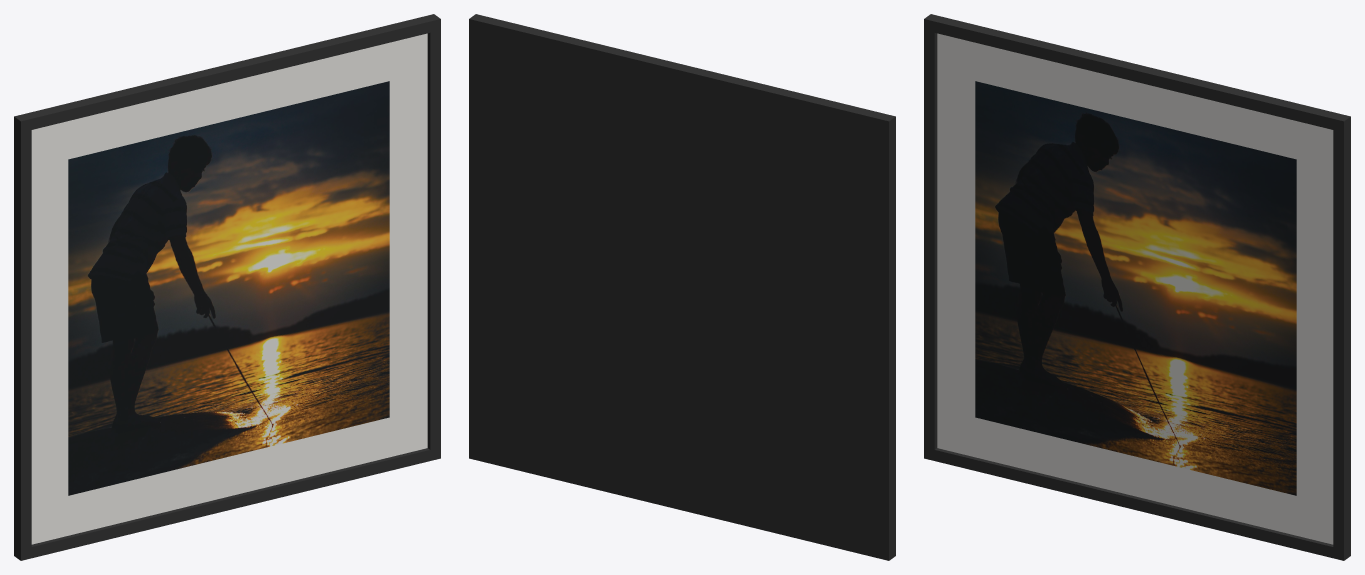
The model's file is pinnen-60.gltf.
3 renders of one model, left to right at view 1: azimuth 30°, elevation 25°; view 2: azimuth 150°, elevation 25°; view 3: azimuth 330°, elevation 25°, orthographic.
Parts seen in each view (by area): view 1: tavla; view 2: tavla; view 3: tavla.
Boxes of the visible parts, x1,y1,x2,y2 form: tavla: [14, 14, 440, 560]; tavla: [469, 14, 895, 560]; tavla: [924, 14, 1350, 560].
Bounding box in the file's own units: 0.784 × 0.784 × 0.022.
3 materials, 1 textured.
